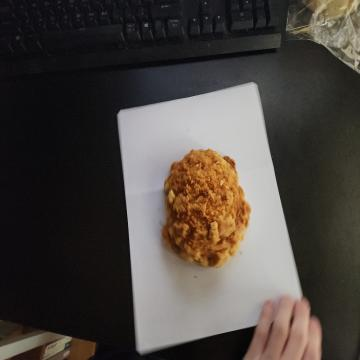soboru_bread: (158, 146, 250, 265)
